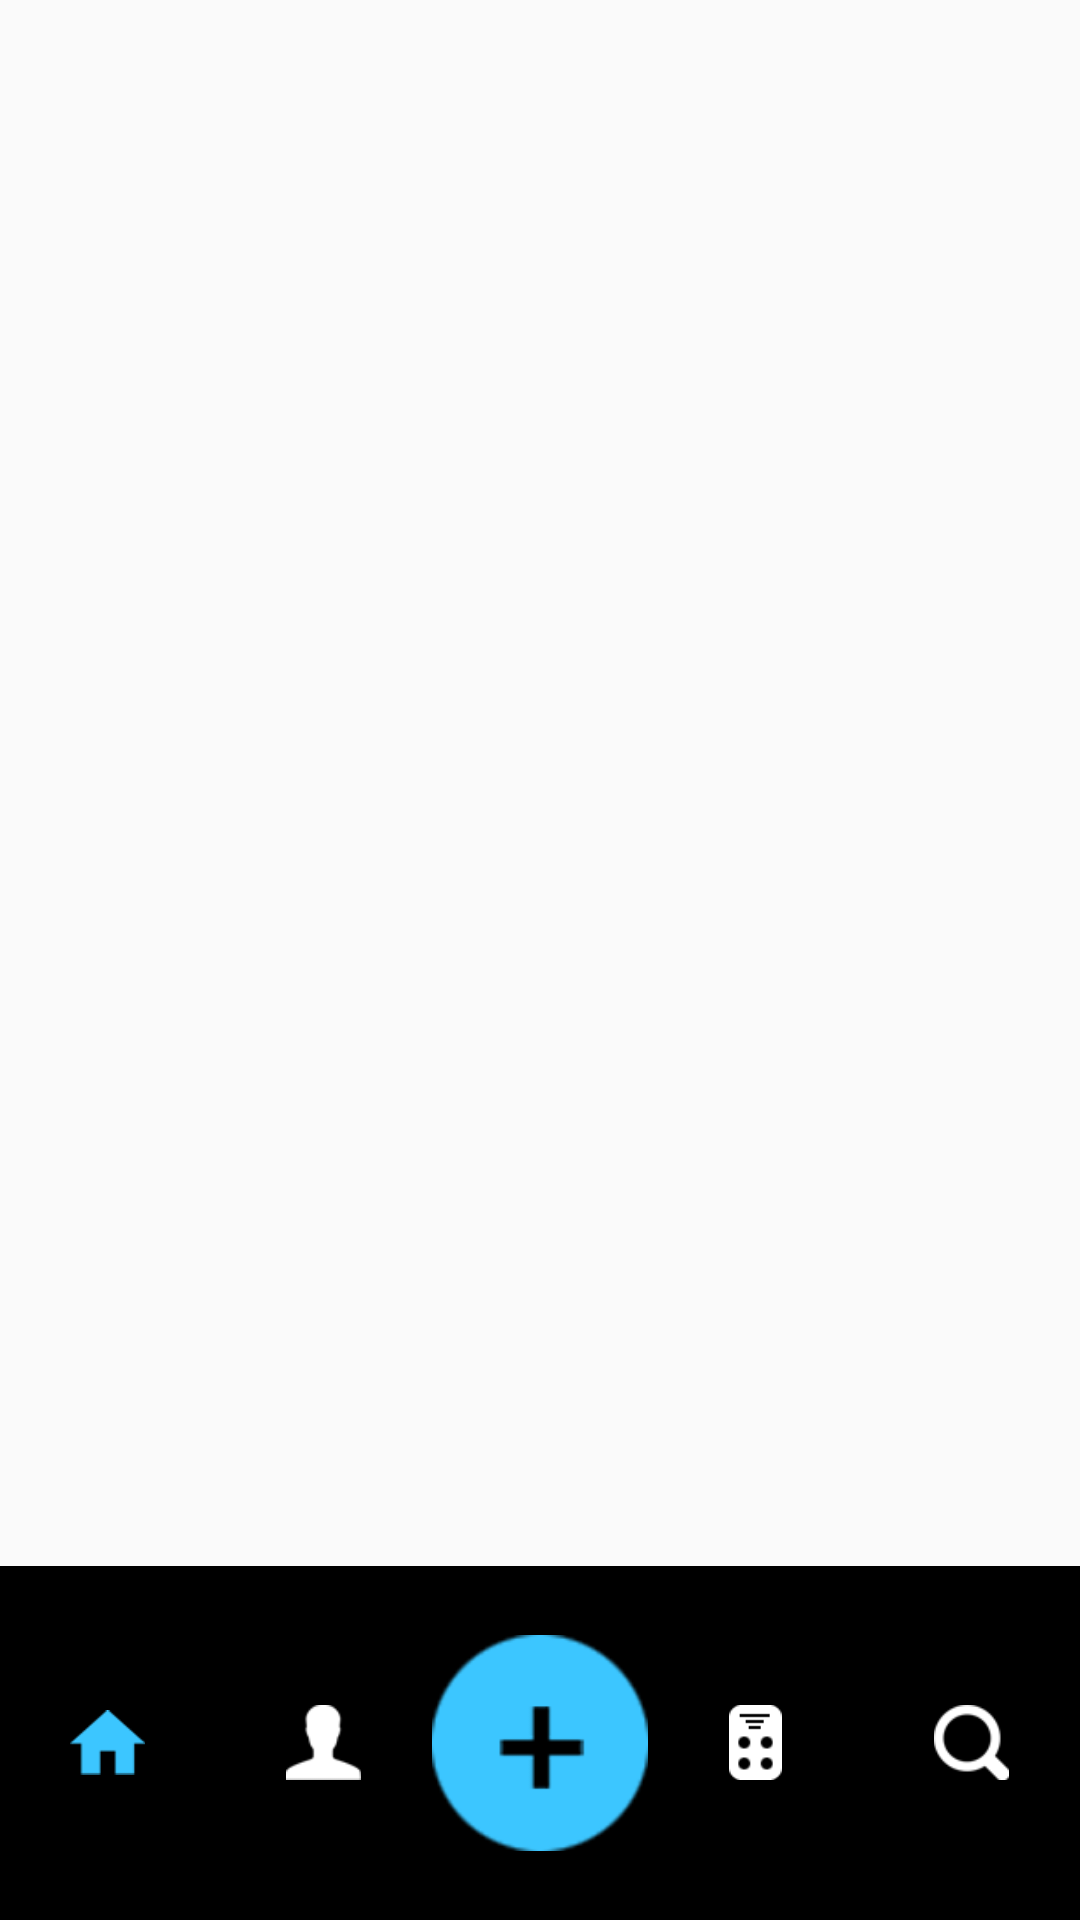

Named icons in this screenshot (1080px x 1920px) and their centers, (x,y):
addcontent: (540,1743)
homeb: (107,1742)
profile: (323,1742)
search: (971,1742)
